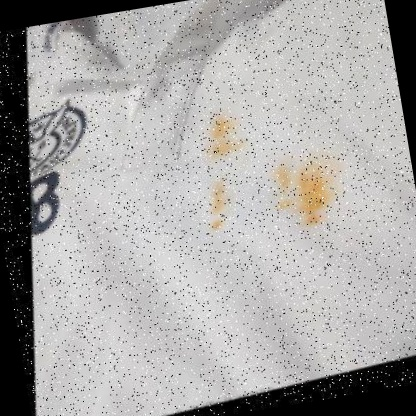kimchi: (264, 153, 345, 230), (202, 109, 246, 164), (196, 183, 239, 238)
